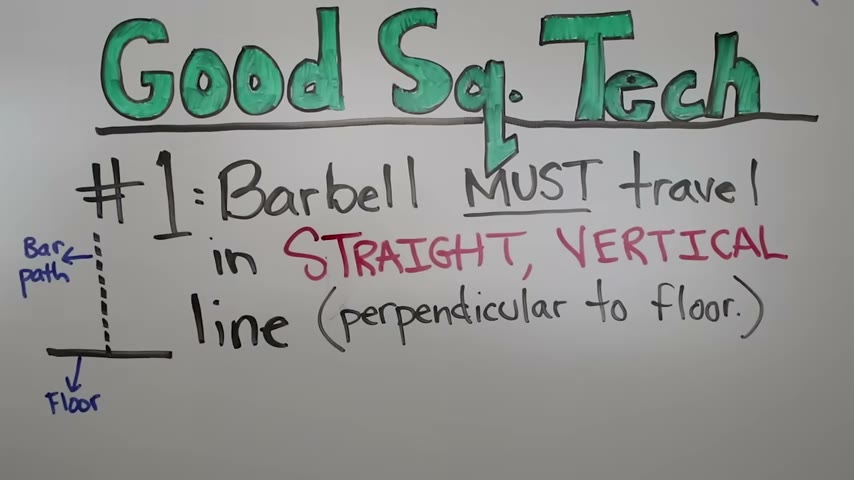barbell_plate_side: (94, 7, 166, 144)
